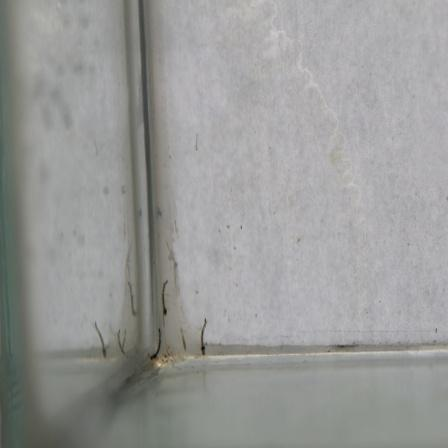Jentik-Nyamuk: (154, 278, 174, 318), (146, 324, 166, 363), (196, 315, 210, 358)
